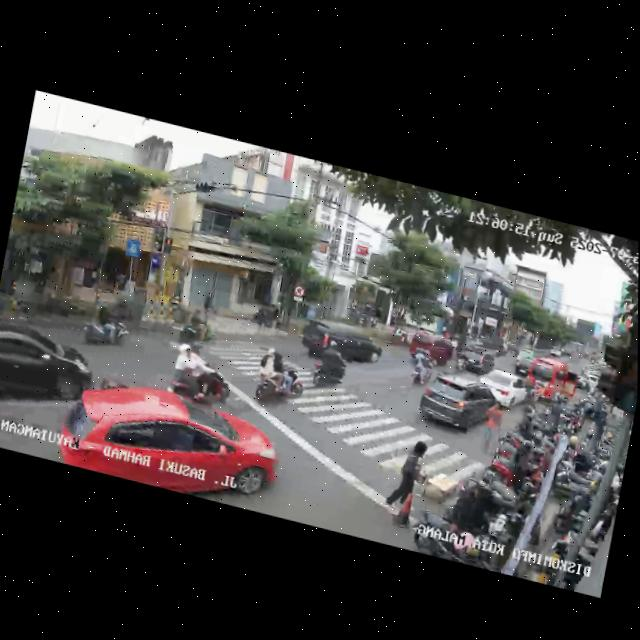car: (57, 367, 284, 516), (0, 318, 99, 417), (415, 368, 502, 443), (299, 312, 382, 372), (526, 354, 583, 409), (475, 365, 531, 411), (406, 327, 456, 370), (512, 351, 535, 379)
motorcycle: (167, 337, 239, 412), (250, 343, 309, 411), (79, 289, 136, 355), (308, 339, 352, 395), (175, 305, 218, 355), (407, 348, 429, 387)
person: (384, 438, 429, 520), (476, 396, 506, 462)
